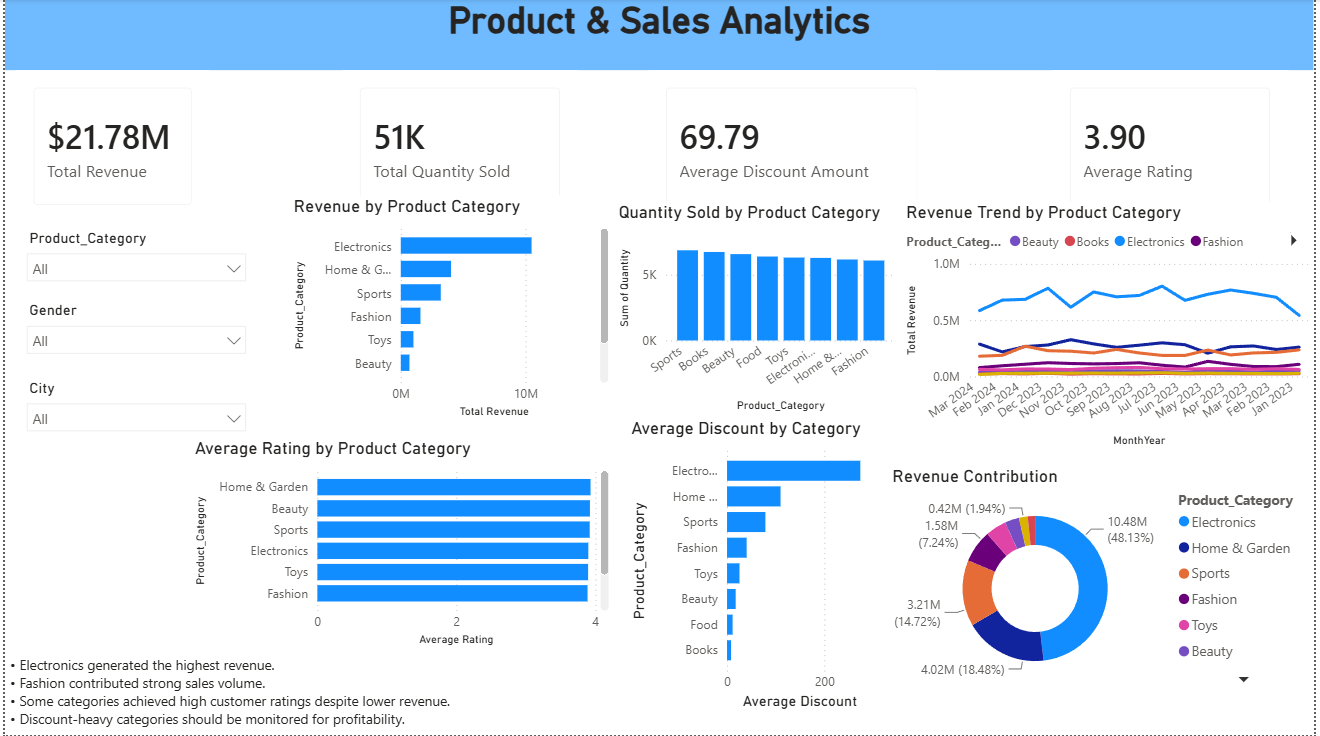

Layout of this report page (visuals, bound fields, positions):
{"tool":"powerbi","page":{"name":"Page 3","canvas":[1280,720],"ordinal":2},"visuals":[{"type":"textbox","title":"Product & Sales Analytics","box":[0,0,1280.3,69.7],"z":0},{"type":"cardVisual","fields":{"Data":["Ecom.Total Revenue"]},"box":[11.4,69.8,189.6,149.7],"z":1000},{"type":"cardVisual","fields":{"Data":["Ecom.Total Quantity Sold"]},"box":[330.7,69.8,230.9,149.7],"z":2000},{"type":"cardVisual","fields":{"Data":["Ecom.Average Discount"]},"box":[630,69.8,280.8,149.7],"z":3000},{"type":"cardVisual","fields":{"Data":["Ecom.Average Rating"]},"box":[1024.9,69.8,230.9,149.7],"z":4000},{"type":"clusteredBarChart","title":"Revenue by Product Category","fields":{"Category":["Ecom.Product_Category"],"Y":["Ecom.Total Revenue"]},"box":[278,192.4,317.9,222.4],"z":5000},{"type":"clusteredColumnChart","title":"Quantity Sold by Product Category","fields":{"Category":["Ecom.Product_Category"],"Y":["Sum(Ecom.Quantity)"]},"box":[595.8,198.1,280.8,211],"z":6000},{"type":"barChart","title":"Average Rating by Product Category","fields":{"Category":["Ecom.Product_Category"],"Y":["Ecom.Average Rating"]},"box":[181,429,414.8,208.1],"z":7000},{"type":"barChart","title":"Average Discount by Category","fields":{"Y":["Ecom.Average Discount"],"Category":["Ecom.Product_Category"]},"box":[607.2,409.1,256.6,290.8],"z":8000},{"type":"donutChart","title":"Revenue Contribution","fields":{"Category":["Ecom.Product_Category"],"Y":["Ecom.Total Revenue"]},"box":[863.8,456.1,416.2,222.4],"z":9000},{"type":"lineChart","title":"Revenue Trend by Product Category","fields":{"Series":["Ecom.Product_Category"],"Y":["Ecom.Total Revenue"],"Category":["Ecom.MonthYear"]},"box":[876.6,198.1,403.4,245.2],"z":10000},{"type":"slicer","fields":{"Values":["Ecom.Product_Category"]},"box":[11.4,219.5,235.2,65.6],"z":11000},{"type":"slicer","fields":{"Values":["Ecom.Gender"]},"box":[11.4,290.8,235.2,69.8],"z":12000},{"type":"slicer","fields":{"Values":["Ecom.City"]},"box":[11.4,366.3,235.2,62.7],"z":13000},{"type":"textbox","box":[0,637.1,607.2,82.7],"z":14000}]}

Visuals, with their boxes in screenshot pixels (x1, y1, x2, y2), scaled from the page's 1280x720 canvas onto the 1320x736 screenshot:
"Product & Sales Analytics" textbox: <bbox>0, 0, 1319, 71</bbox>
cardVisual - Ecom.Total Revenue: <bbox>12, 71, 207, 224</bbox>
cardVisual - Ecom.Total Quantity Sold: <bbox>341, 71, 579, 224</bbox>
cardVisual - Ecom.Average Discount: <bbox>650, 71, 939, 224</bbox>
cardVisual - Ecom.Average Rating: <bbox>1057, 71, 1295, 224</bbox>
"Revenue by Product Category" clusteredBarChart: <bbox>287, 197, 615, 424</bbox>
"Quantity Sold by Product Category" clusteredColumnChart: <bbox>614, 203, 904, 418</bbox>
"Average Rating by Product Category" barChart: <bbox>187, 439, 614, 651</bbox>
"Average Discount by Category" barChart: <bbox>626, 418, 891, 715</bbox>
"Revenue Contribution" donutChart: <bbox>891, 466, 1319, 694</bbox>
"Revenue Trend by Product Category" lineChart: <bbox>904, 203, 1319, 453</bbox>
slicer - Ecom.Product_Category: <bbox>12, 224, 254, 291</bbox>
slicer - Ecom.Gender: <bbox>12, 297, 254, 369</bbox>
slicer - Ecom.City: <bbox>12, 374, 254, 439</bbox>
textbox: <bbox>0, 651, 626, 735</bbox>
